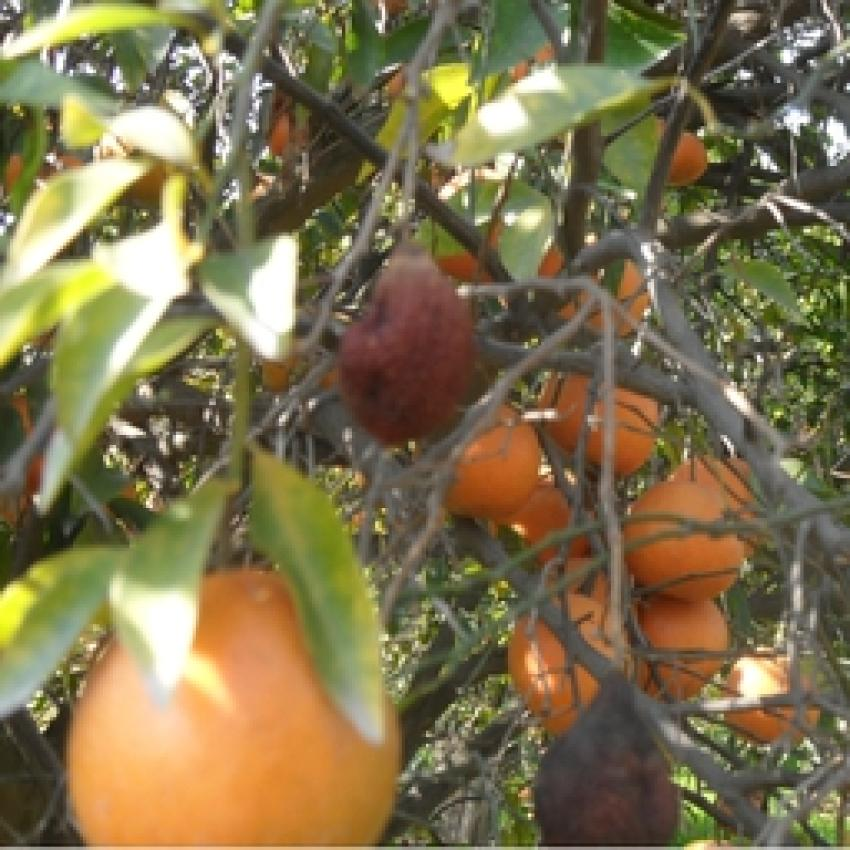Mal estado: (334, 246, 490, 474), (524, 670, 691, 847)
